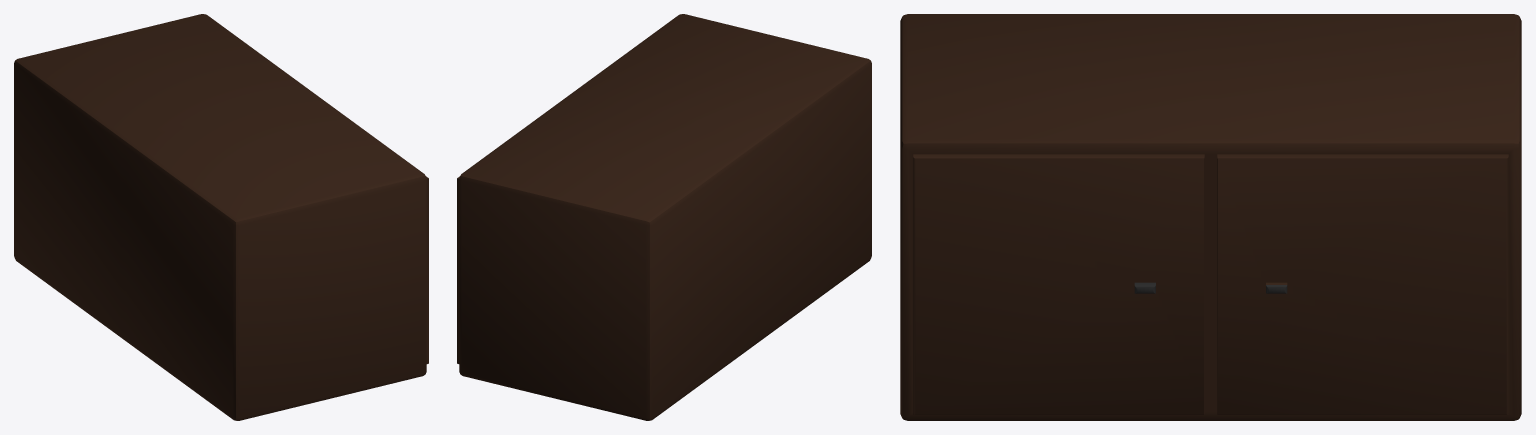
The model's file is Ceiling Cabinet.fbx.
3 renders of one model, left to right at view 1: azimuth 30°, elevation 25°; view 2: azimuth 150°, elevation 25°; view 3: azimuth 270°, elevation 25°, orthographic. The views are drawn at different scales.
Parts seen in each view (by area): view 1: Cabinet; view 2: Cabinet; view 3: Cabinet.
Part boxes in pixels (box(x1,y1,x2,y2)): Cabinet: box(14, 14, 428, 420); Cabinet: box(457, 14, 871, 420); Cabinet: box(900, 14, 1521, 420).
Size of the model in its own units: 106 by 100 by 200.
